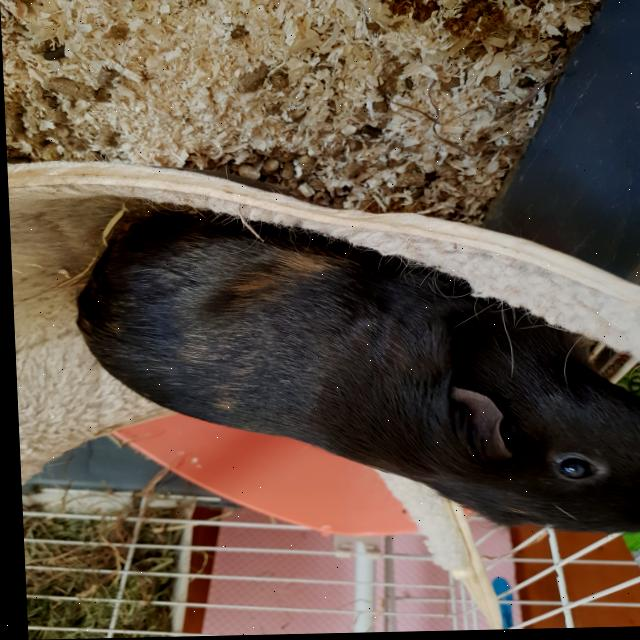guinea pig: (70, 203, 640, 545)
